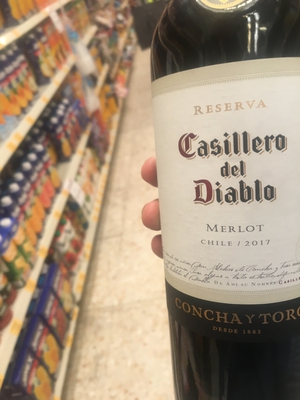casillero del diablo merlot: (150, 4, 300, 379)
